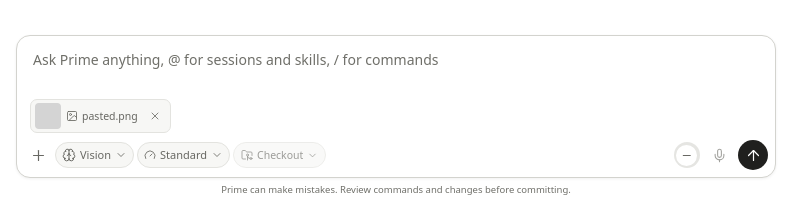
Composer image ingestion › shows an actionable rejection for a known text-only model
This screenshot has width=793, height=210.
Expected: the element with class "composer-attachment" reads "pasted.png", [82,109,138,123]
Click the button named "Send message" at (753,155), box [738,140,768,170]
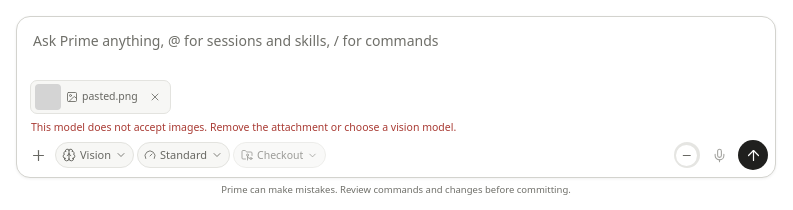
Now the message shows "does not accept images", box [31,120,456,134]
